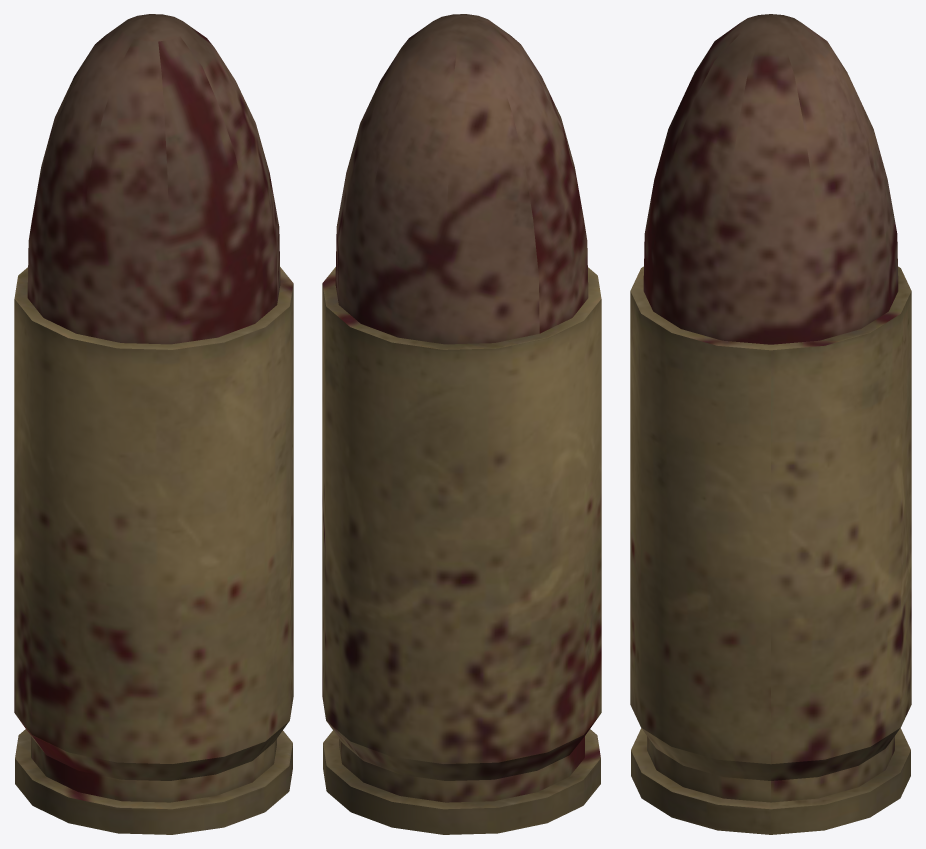
The model's file is 9mm_blood.glb.
The picture shows the model from 3 angles, left to right: view 1: azimuth 30°, elevation 25°; view 2: azimuth 150°, elevation 25°; view 3: azimuth 270°, elevation 25°; orthographic projection.
Visible parts, largest first — view 1: 9mm_blood; view 2: 9mm_blood; view 3: 9mm_blood.
Boxes of the visible parts, bbox=[...] form: 9mm_blood: bbox=[14, 14, 293, 834]; 9mm_blood: bbox=[322, 14, 601, 834]; 9mm_blood: bbox=[630, 14, 911, 834].
Bounding box in the file's own units: 0.1642 × 0.4882 × 0.1642.
Materials: 1 (1 with a texture image).
